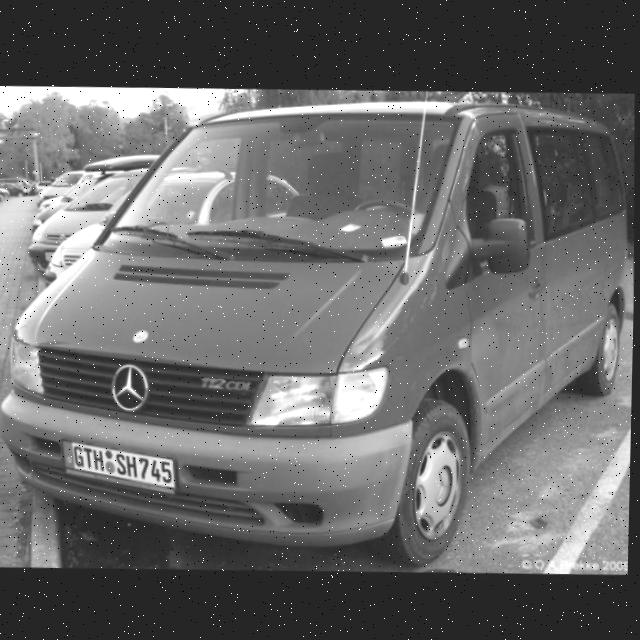license-plates: (63, 441, 175, 492)
